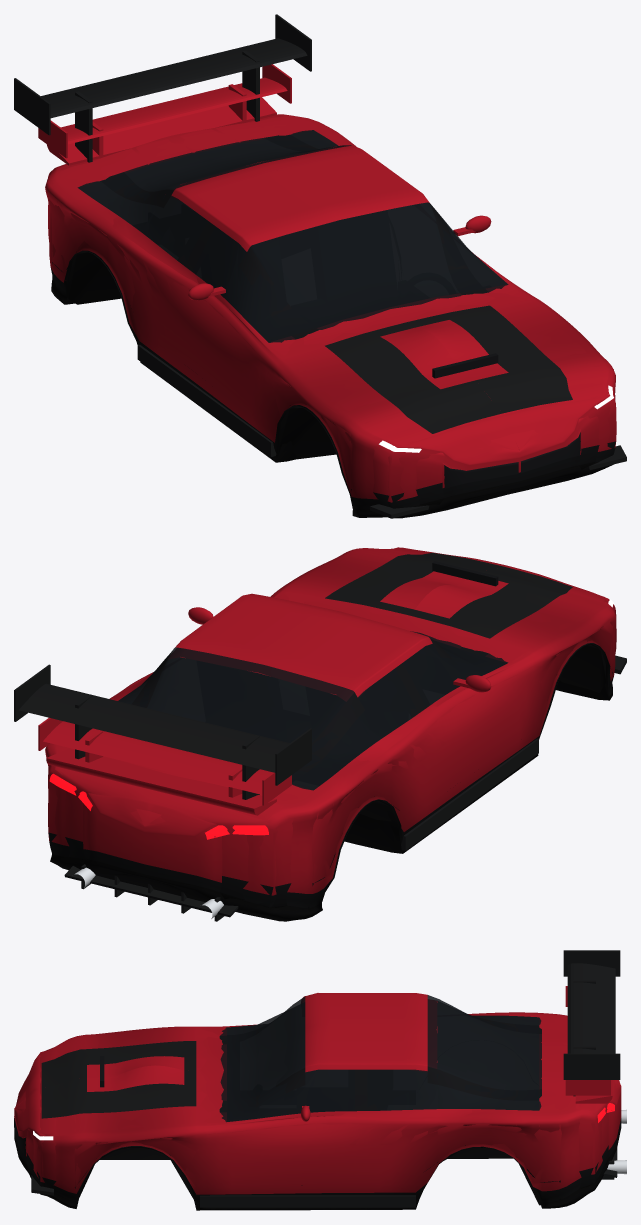
File: sr_mazda_rx7_fd.glb
The picture shows the model from 3 angles, top to bottom: view 1: azimuth 30°, elevation 25°; view 2: azimuth 150°, elevation 25°; view 3: azimuth 270°, elevation 25°; orthographic projection. The views are drawn at different scales.
Parts seen in each view (by area): view 1: body (×2), hood_3, spoiler_3, spoiler_2, hood_1, spoiler_1, bumper_1, grille, mirrors, hood_1_intake; view 2: body (×2), spoiler_3, hood_3, spoiler_2, bumper_1, spoiler_1, hood_1, taillights, mirrors, hood_1_intake; view 3: body (×2), hood_3, spoiler_3, bumper_1, hood_1, spoiler_2.
Boxes of the visible parts, x1,y1,x2,y2 form: body (×2): (45,114,616,518); hood_3: (325,305,572,433); spoiler_3: (14,14,311,162); spoiler_2: (38,64,291,158); hood_1: (380,320,508,389); spoiler_1: (47,97,276,165); bumper_1: (137,345,626,518); grille: (444,432,580,488); mirrors: (188,215,491,300); hood_1_intake: (432,353,498,378); body (×2): (45,547,616,921); spoiler_3: (14,664,311,799); hood_3: (325,552,572,638); spoiler_2: (38,717,291,805); bumper_1: (64,655,626,921); spoiler_1: (46,748,276,815); hood_1: (380,571,508,618); taillights: (49,773,268,839); mirrors: (188,607,491,692); hood_1_intake: (432,561,498,586); body (×2): (14,993,621,1210); hood_3: (41,1041,196,1118); spoiler_3: (563,950,620,1096); bumper_1: (31,1148,617,1207); hood_1: (87,1056,184,1091); spoiler_2: (565,986,610,1095).
Bounding box in the file's own units: 2 × 1.23 × 4.33.
